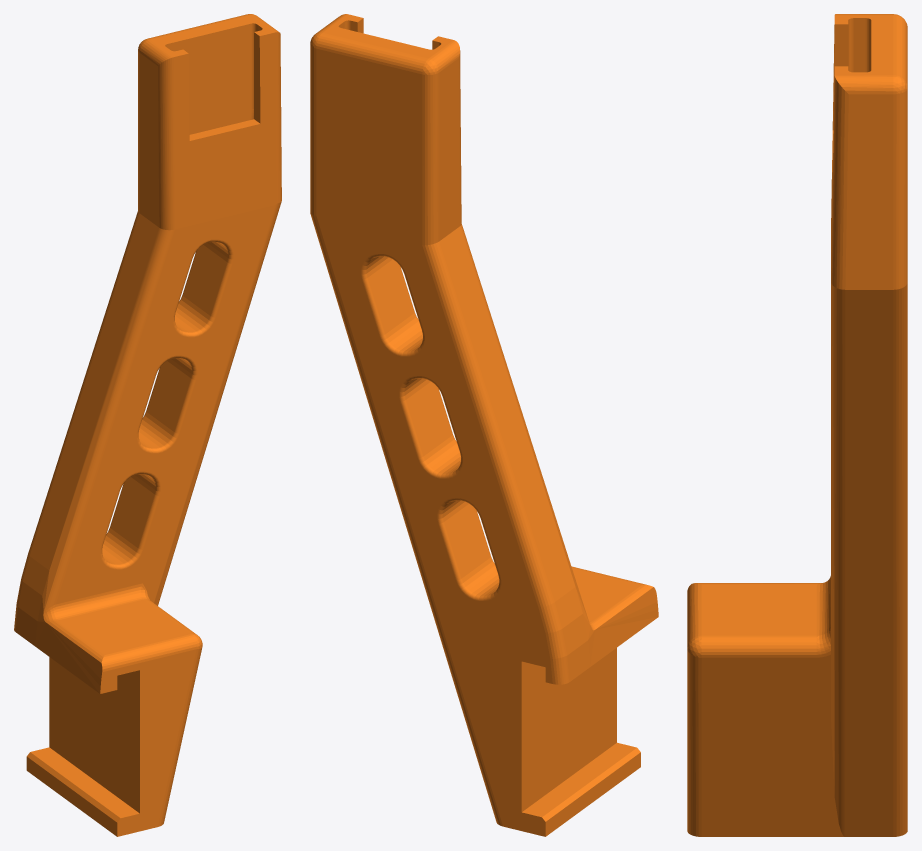
File: FillerPrusaSource.dae
The picture shows the model from 3 angles, left to right: view 1: azimuth 30°, elevation 25°; view 2: azimuth 150°, elevation 25°; view 3: azimuth 270°, elevation 25°; orthographic projection. The views are drawn at different scales.
Visible parts, largest first — view 1: node0; view 2: node0; view 3: node0.
Boxes of the visible parts, <box> form: node0: <box>14,14,281,836</box>; node0: <box>310,14,658,836</box>; node0: <box>687,14,907,836</box>.
Bounding box in the file's own units: 0.0719 × 0.046 × 0.1981.
